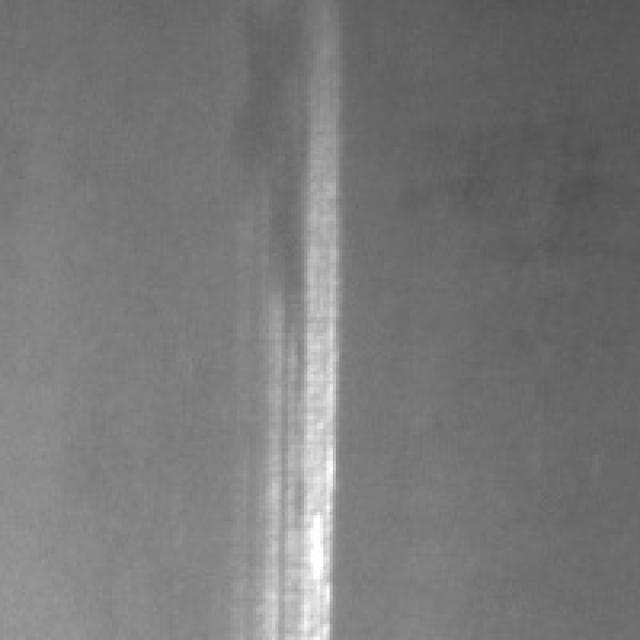scratches: (253, 99, 339, 634)
